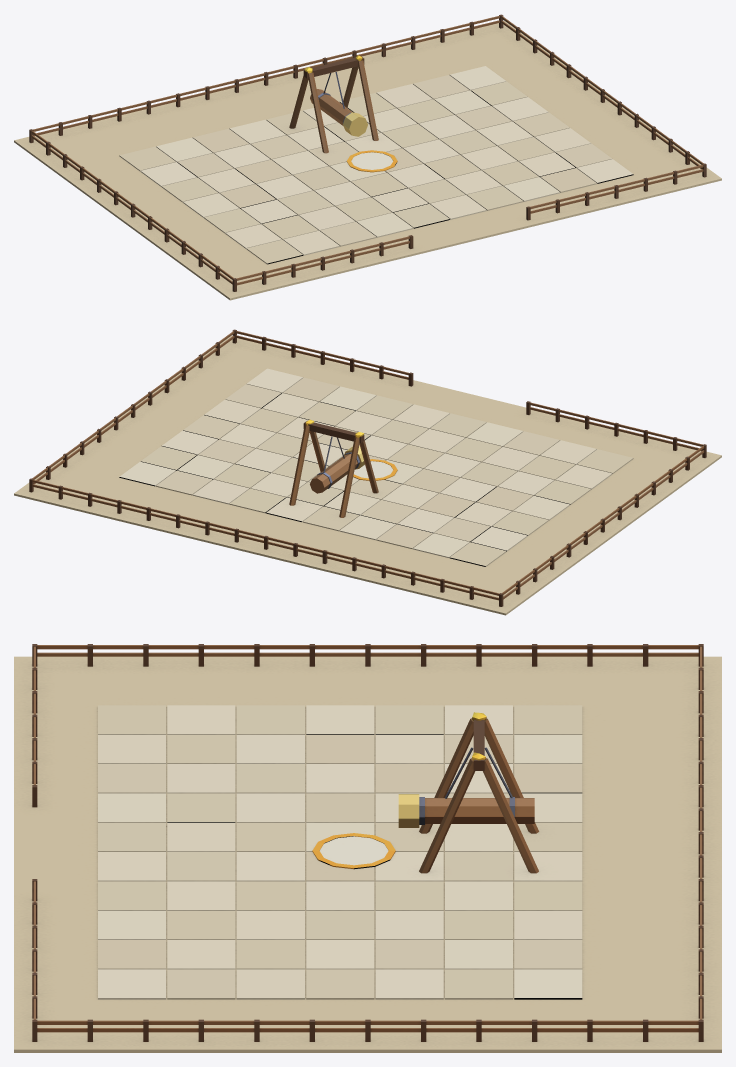
The model's file is area_guard_1_5.fbx.
3 views of the same model, one above another, from view 1: azimuth 30°, elevation 25°; view 2: azimuth 150°, elevation 25°; view 3: azimuth 270°, elevation 25° (orthographic). The views are drawn at different scales.
Visible parts, largest first — view 1: area_guard_1_5_body; view 2: area_guard_1_5_body; view 3: area_guard_1_5_body.
Part boxes in pixels (x1,y1,x2,y2): area_guard_1_5_body: (14, 14, 721, 300); area_guard_1_5_body: (14, 329, 721, 615); area_guard_1_5_body: (14, 644, 721, 1052).
Size of the model in its own units: 16750 by 2455 by 12750.
Materials: 1 (1 with a texture image).
